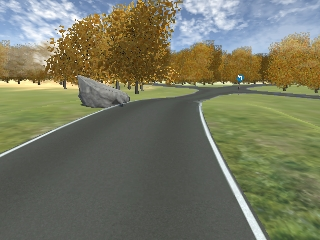left: (236, 75, 243, 81)
